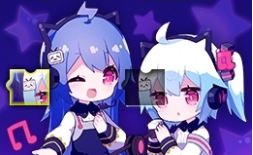gap: (122, 69, 165, 105)
